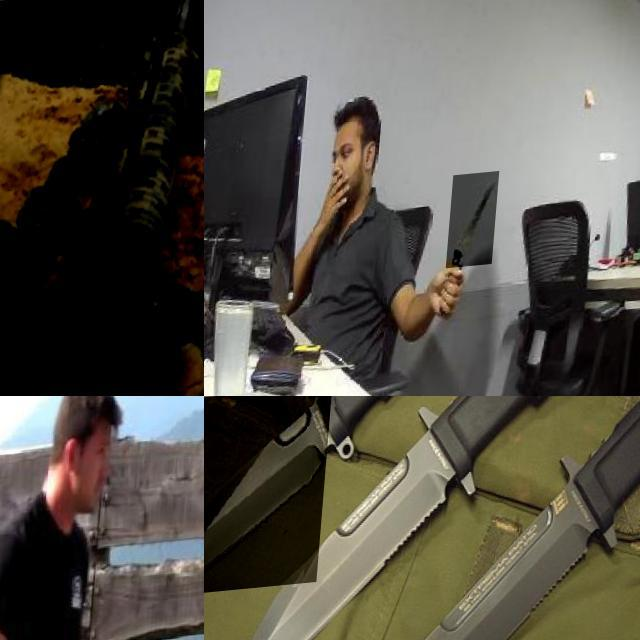-: (223, 441, 457, 640), (326, 502, 598, 640), (204, 396, 335, 598), (454, 178, 506, 274)
gun-knife-thesis - v11 Yolov5 augmented: (0, 0, 204, 396)
